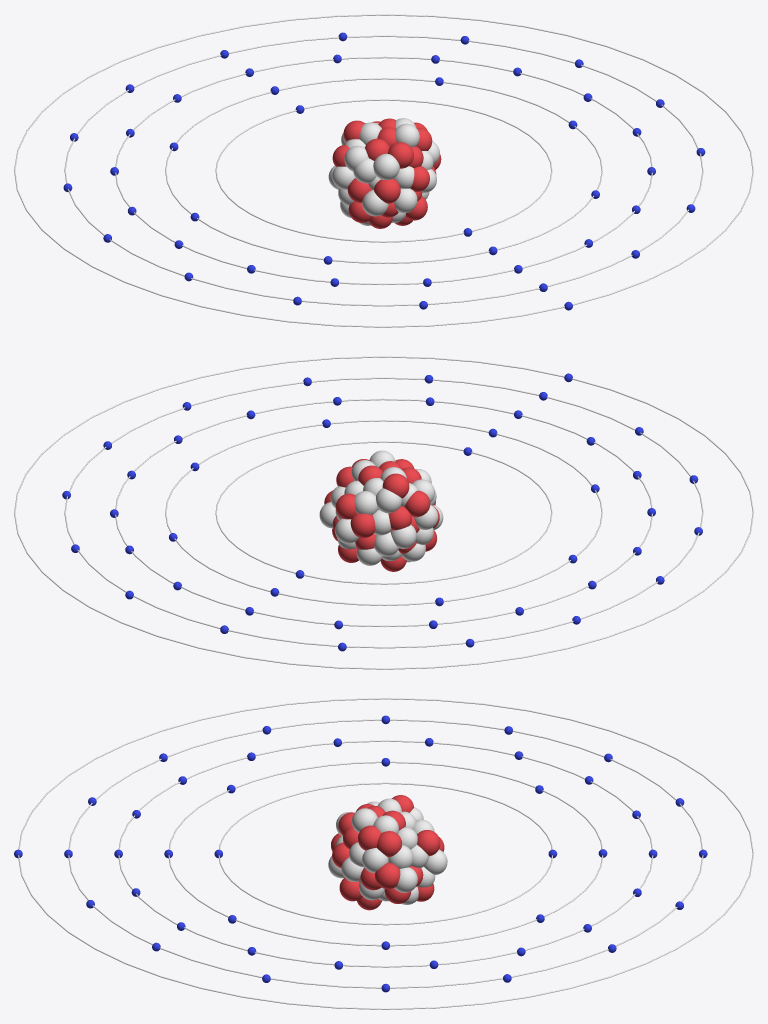
The model's file is Rhodium.glb.
The picture shows the model from 3 angles, top to bottom: view 1: azimuth 30°, elevation 25°; view 2: azimuth 150°, elevation 25°; view 3: azimuth 270°, elevation 25°; orthographic projection.
Parts seen in each view (by area): view 1: O-Schale, N-Schale, M-Schale, L-Schale, K-Schale, Neutron 45; view 2: O-Schale, N-Schale, M-Schale, L-Schale, K-Schale, Proton 40; view 3: O-Schale, N-Schale, M-Schale, L-Schale, K-Schale, Proton 38.
Part boxes in pixels (left/top/right/bottom): O-Schale: left=14, top=14, right=753, bottom=327; N-Schale: left=64, top=35, right=703, bottom=306; M-Schale: left=115, top=56, right=652, bottom=285; L-Schale: left=165, top=78, right=602, bottom=263; K-Schale: left=215, top=99, right=552, bottom=242; Neutron 45: left=373, top=153, right=399, bottom=179; O-Schale: left=14, top=356, right=753, bottom=669; N-Schale: left=64, top=377, right=703, bottom=648; M-Schale: left=115, top=398, right=652, bottom=627; L-Schale: left=165, top=420, right=602, bottom=605; K-Schale: left=215, top=441, right=552, bottom=584; Proton 40: left=350, top=513, right=375, bottom=538; O-Schale: left=18, top=698, right=753, bottom=1009; N-Schale: left=68, top=719, right=703, bottom=988; M-Schale: left=118, top=740, right=653, bottom=967; L-Schale: left=168, top=761, right=603, bottom=946; K-Schale: left=218, top=782, right=552, bottom=925; Proton 38: left=375, top=862, right=400, bottom=889.
Size of the model in its own units: 22.04 by 3.35 by 22.15.
